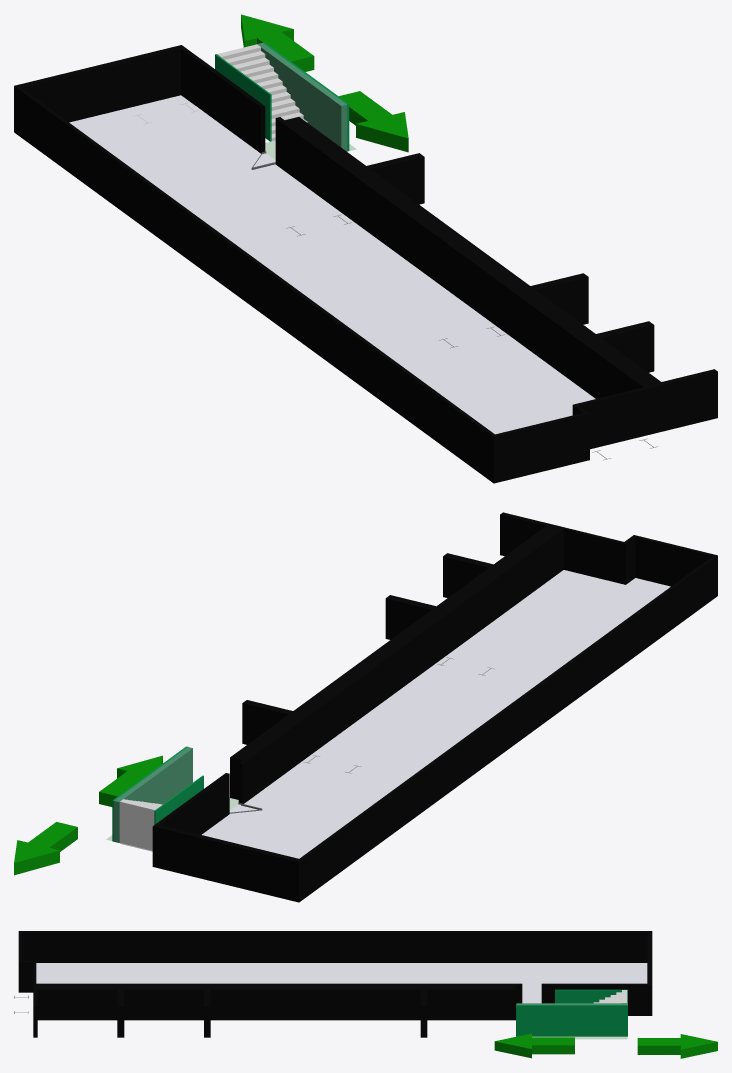
The model's file is Horno 5 (Entrepiso de cables) CO EFAISA.gltf.
3 renders of one model, top to bottom at view 1: azimuth 30°, elevation 25°; view 2: azimuth 150°, elevation 25°; view 3: azimuth 270°, elevation 25°, orthographic. The views are drawn at different scales.
Parts seen in each view (by area): view 1: path1229, path1217, path1227, path1225, path1223, path1215, path1219, path1223.001, path1185, path2083, Escalera, path2097 (+1 smaller); view 2: path1229, path1217, path1227, path1225, path1223, path1215, path1185, path1223.001, path2097, Escalera, path2083, path1183; view 3: path1217, path1229, path1227, path1223, path1225, path1183, path1215, path2083, path2097, path1223.001, path1213, Escalera (+1 smaller).
Part boxes in pixels (x1,y1,x2,y2): path1229: [69, 95, 595, 434]; path1217: [349, 154, 717, 449]; path1227: [14, 45, 199, 257]; path1225: [338, 322, 586, 481]; path1223: [185, 210, 341, 369]; path1215: [275, 117, 420, 217]; path1219: [491, 412, 589, 483]; path1223.001: [196, 58, 265, 153]; path1185: [257, 43, 347, 151]; path2083: [339, 91, 408, 152]; Escalera: [217, 44, 307, 141]; path2097: [241, 14, 314, 71]; path1229: [202, 570, 670, 858]; path1217: [244, 512, 635, 757]; path1227: [152, 751, 448, 902]; path1225: [579, 537, 715, 694]; path1223: [446, 654, 582, 792]; path1215: [230, 702, 306, 803]; path1185: [114, 747, 192, 842]; path1223.001: [169, 773, 229, 834]; path2097: [14, 822, 77, 875]; Escalera: [120, 799, 162, 851]; path2083: [99, 755, 162, 806]; path1183: [112, 746, 203, 841]; path1217: [21, 960, 425, 1037]; path1229: [36, 963, 647, 1003]; path1227: [425, 931, 652, 1015]; path1223: [223, 931, 425, 962]; path1225: [21, 931, 223, 962]; path1183: [516, 989, 627, 1036]; path1215: [425, 983, 522, 1037]; path2083: [494, 1033, 574, 1058]; path2097: [637, 1034, 717, 1058]; path1223.001: [541, 983, 627, 1003]; path1213: [532, 1036, 627, 1039]; Escalera: [593, 990, 627, 1003].
Size of the model in its own units: 17.49 by 2.67 by 53.6.
